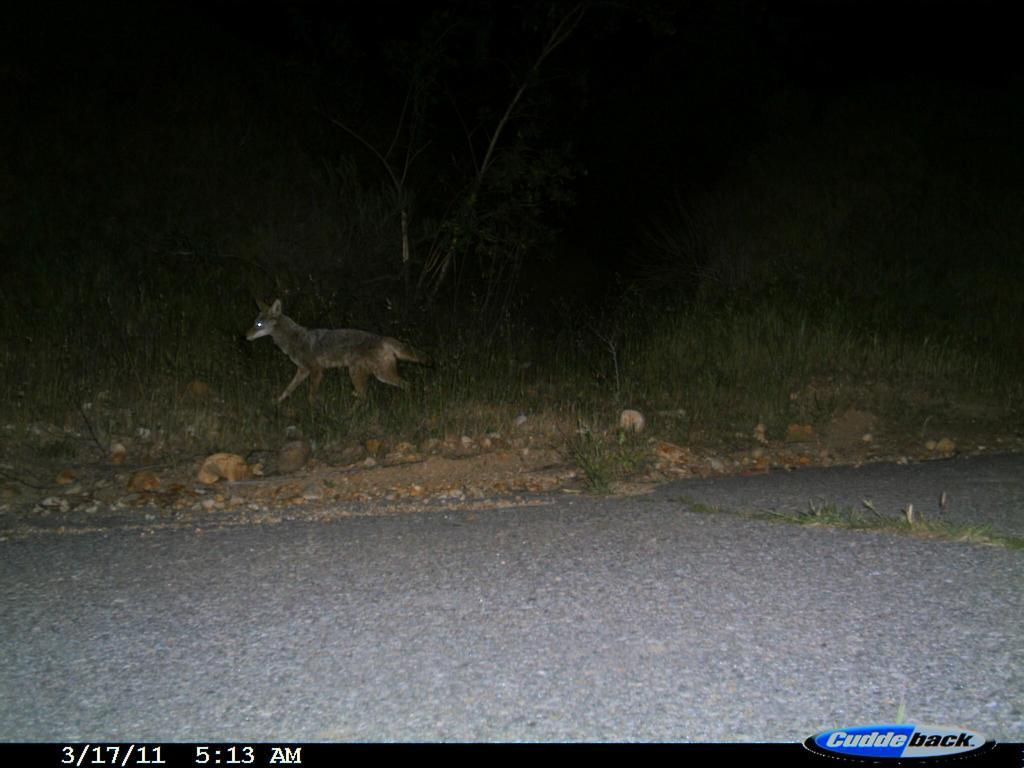coyote: (233, 290, 450, 430)
